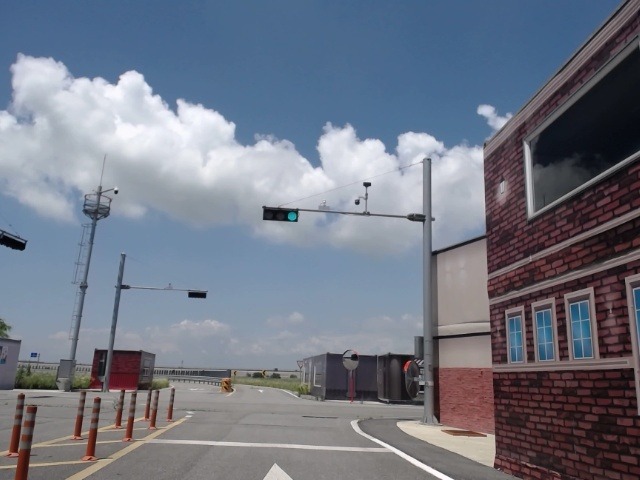green_3: (263, 207, 301, 223)
